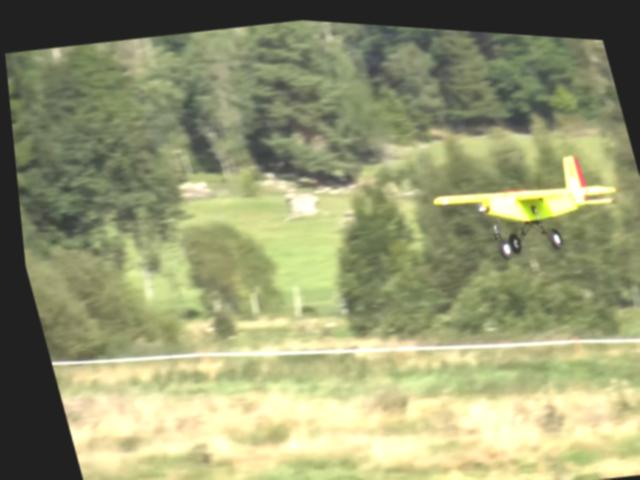plane: (421, 135, 628, 269)
